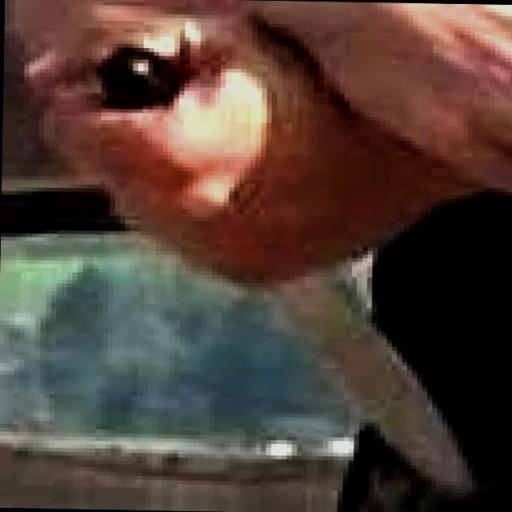knife: (95, 43, 477, 502)
